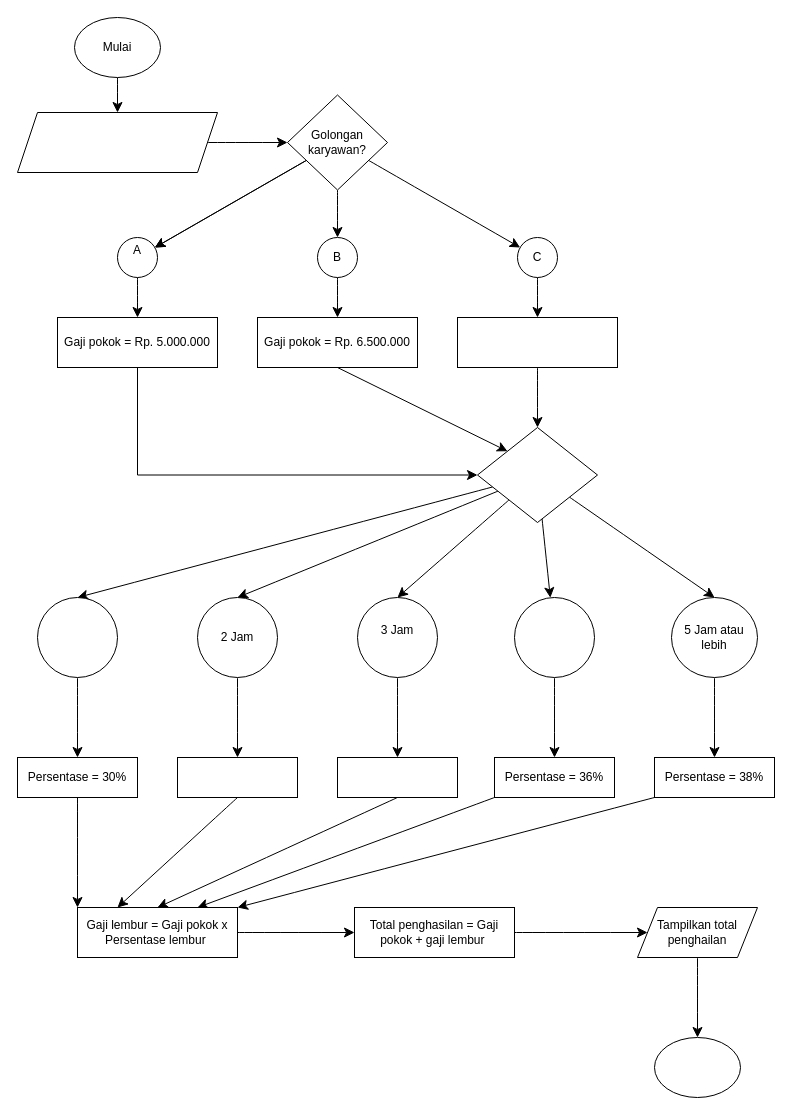
Some shapes in this 792 by 1115 pixel diagram are drawn without their labels. The shapes that lost their labels are listed below. From the top down, each one's centre as x and y in pixels, then its label:
At pixel 117 142: "Masukkan golongan karyawan Masukkan jumlah jam lembur".
At pixel 537 342: "Gaji pokok = Rp. 9.500.000".
At pixel 537 474: "Jumlah jam lembur?".
At pixel 77 637: "1 Jam".
At pixel 554 637: "4 Jam".
At pixel 237 777: "Persentase = 32%".
At pixel 397 777: "Persentase = 34%".
At pixel 697 1067: "Selesai".
